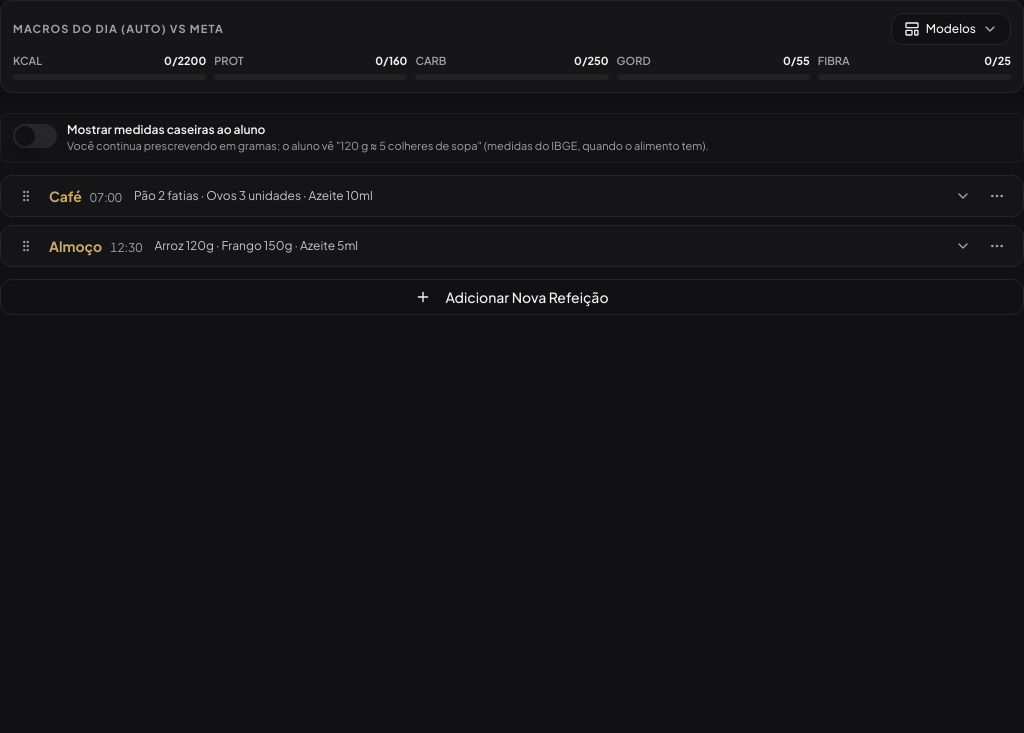
Test: Aba Dieta enxuta › abre uma refeição por vez
This screenshot has width=1024, height=733.
What coordinates should you click on to do the following:
click the button with test id "meal-summary-0"
I would click on:
 (65, 196)
Its box is [45,182,943,210].
(page scrolled)
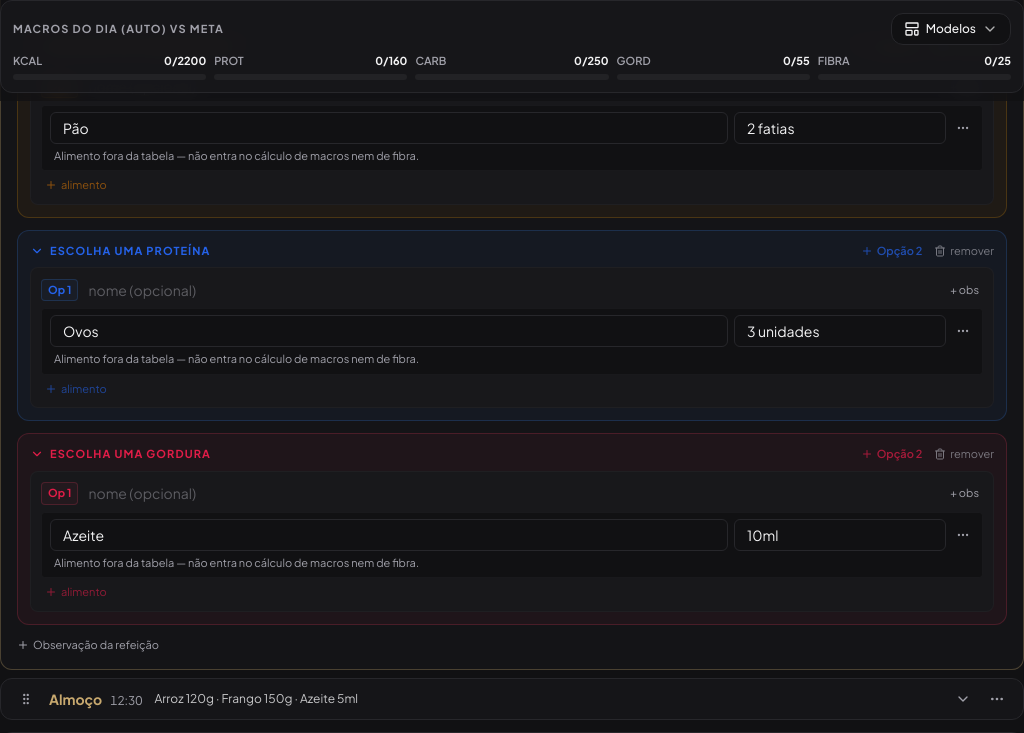
What coordinates should you click on to do the following:
click the button with test id "meal-summary-1"
I would click on:
 (76, 699)
Its box is [45,685,943,713].
(page scrolled)
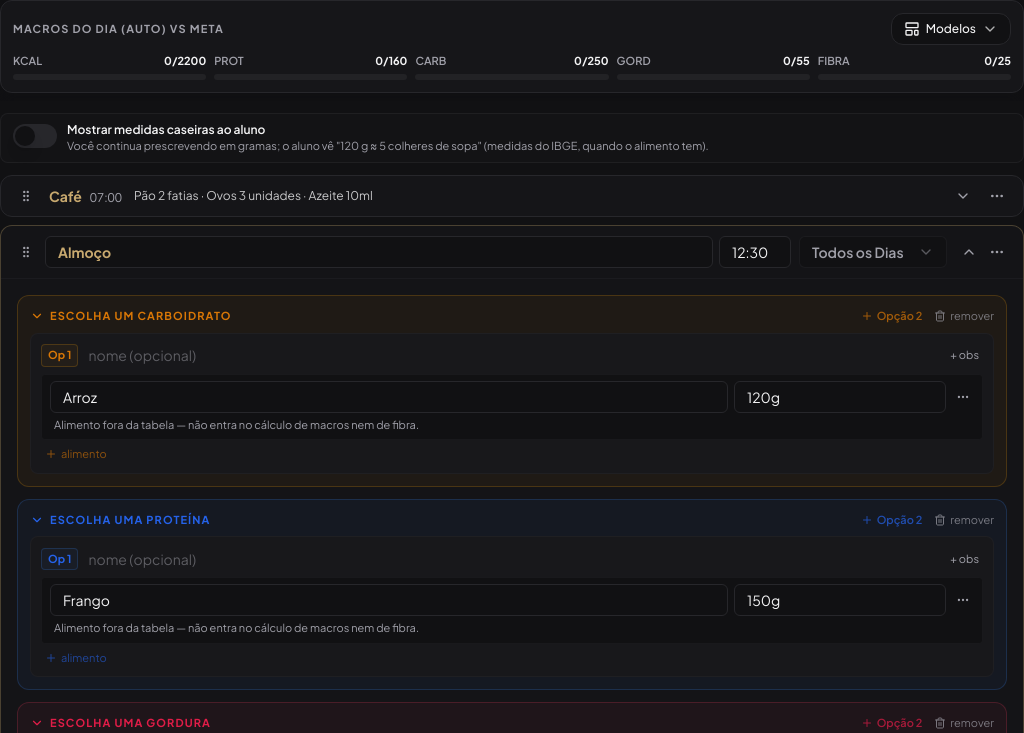
Result: the field showing "Almoço" is shown at [45,236,713,268]
Result: the button with test id "meal-summary-0" is shown at [45,182,943,210]
